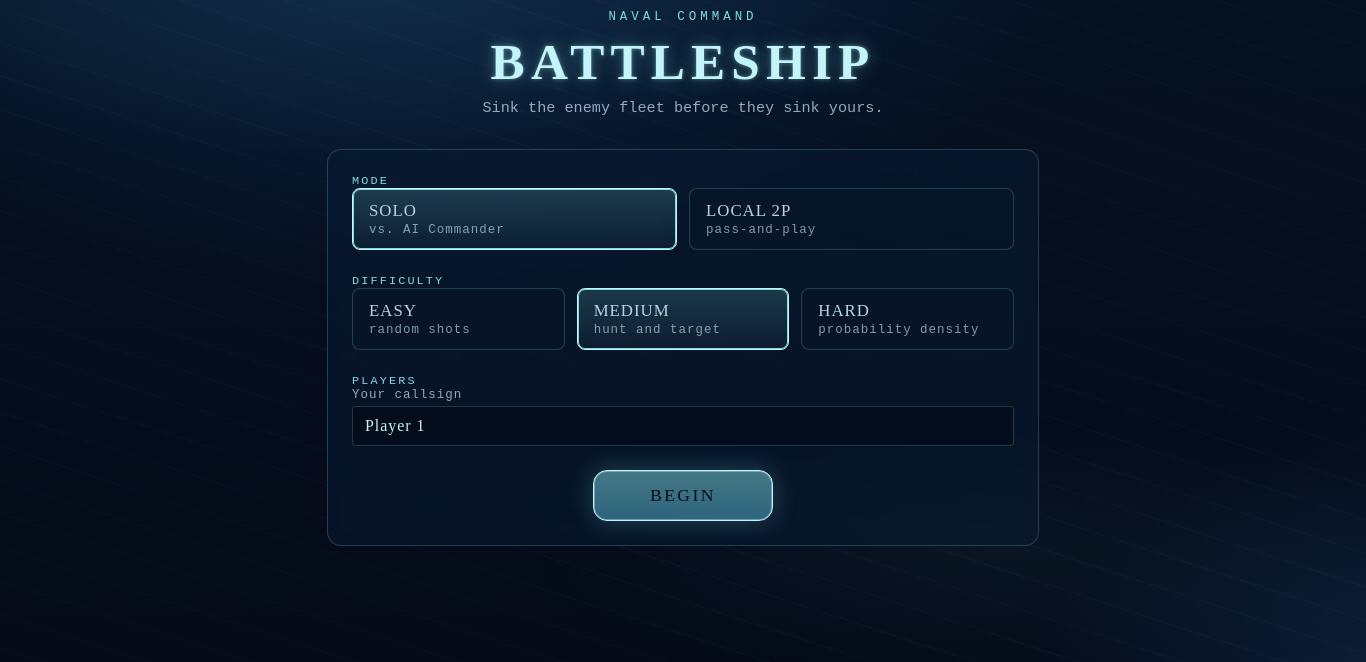
Test: Solo gameplay flow (CP3) › Battle log records each shot with a turn number
Click the button with aria-label "begin placement" at (683, 496), box [593,470,773,521]
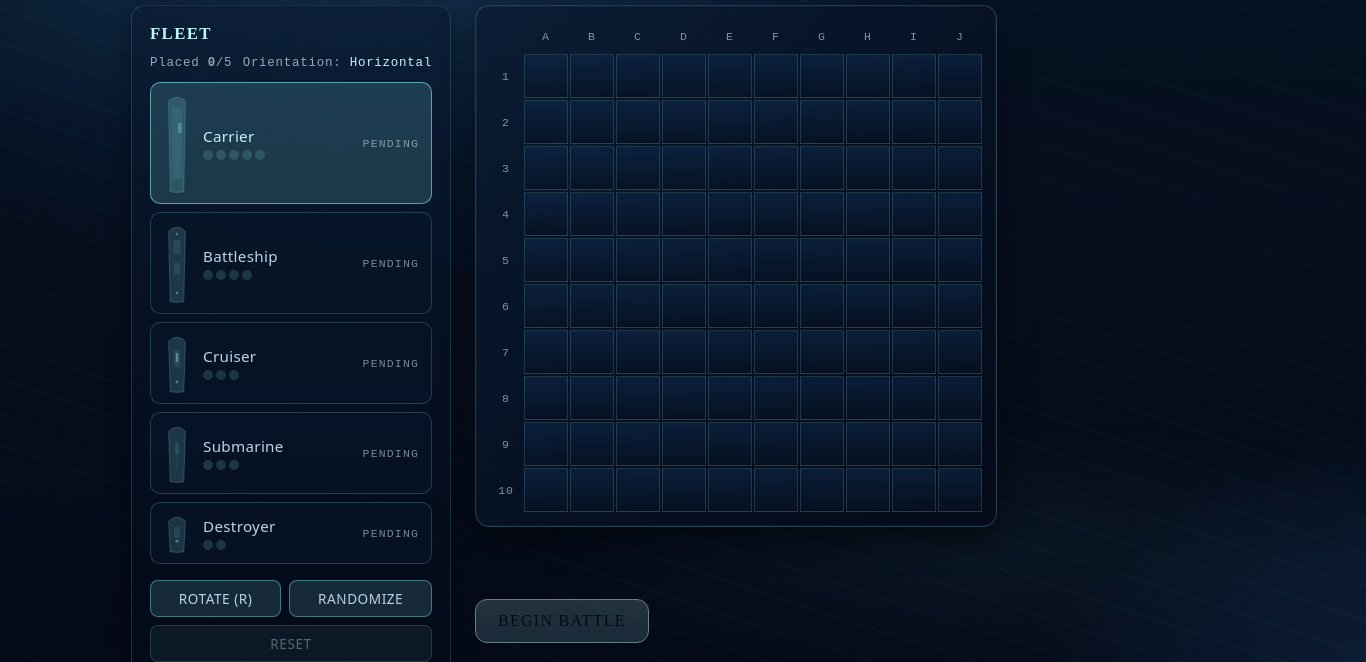
Click the button with aria-label "randomize fleet" at (361, 598), box [289,580,432,617]
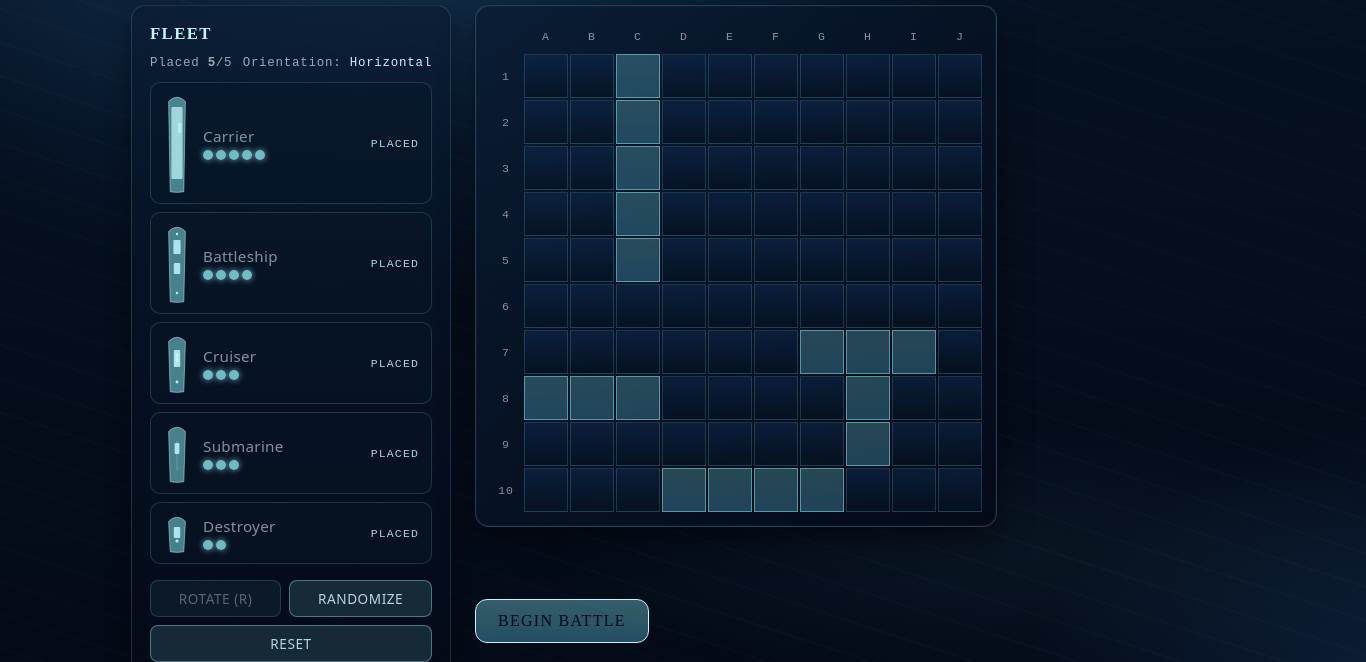
Click the button "Begin battle" at (562, 620), box [475,598,649,642]
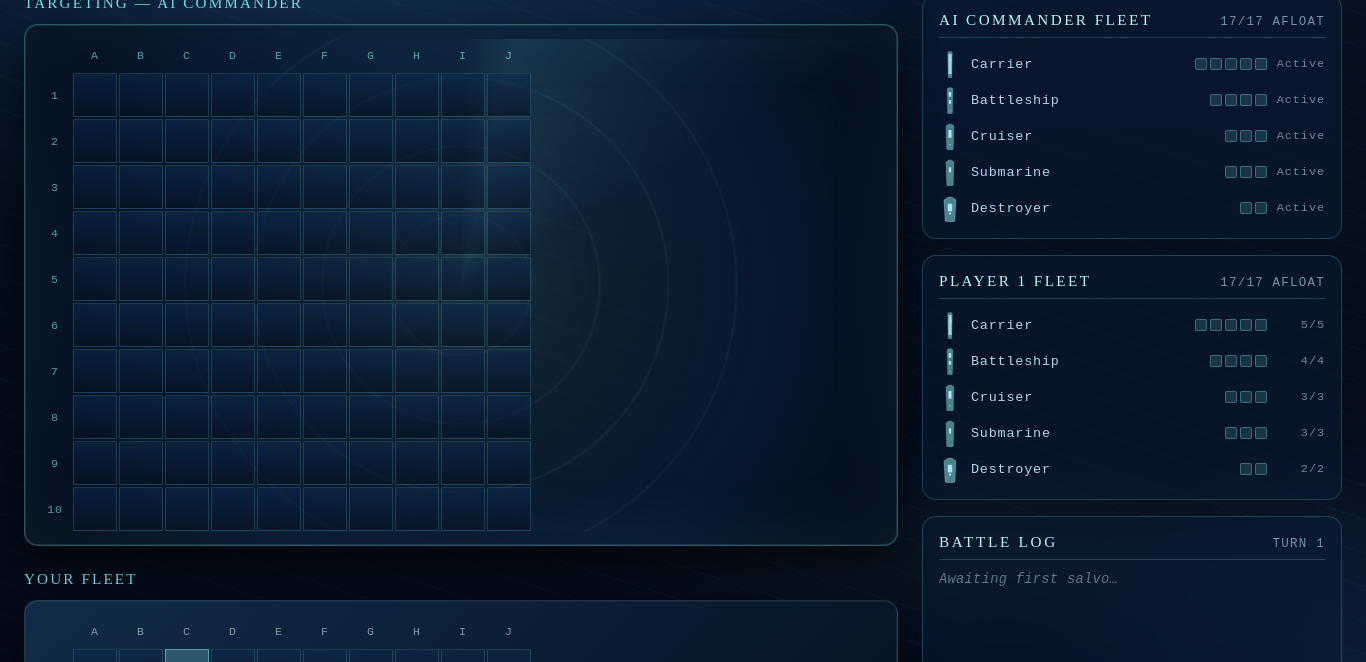
Expected: the table named "fire targeting board" is shown, [24,24,898,546]
Click the button named "Fire at A1" at (95, 95), box [73,73,117,117]
(page scrolled)
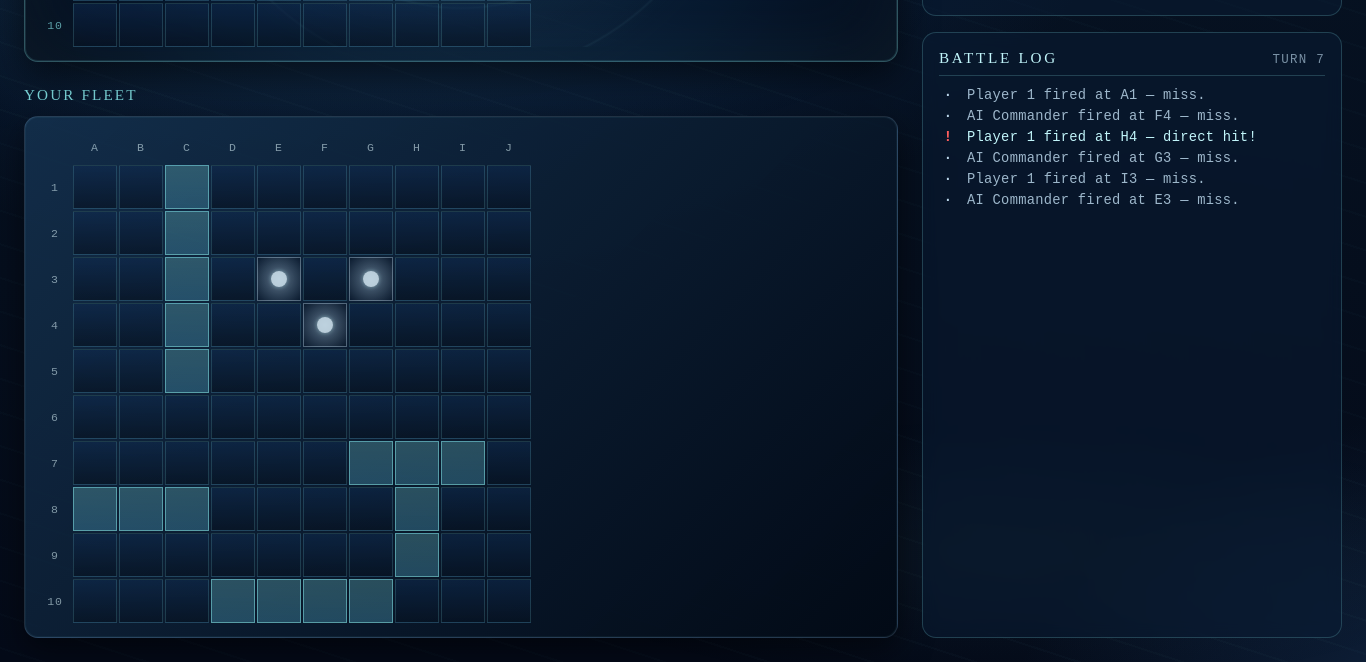
Expected: the element labelled "Battle Log" shows "A1", [967,88,1206,103]
